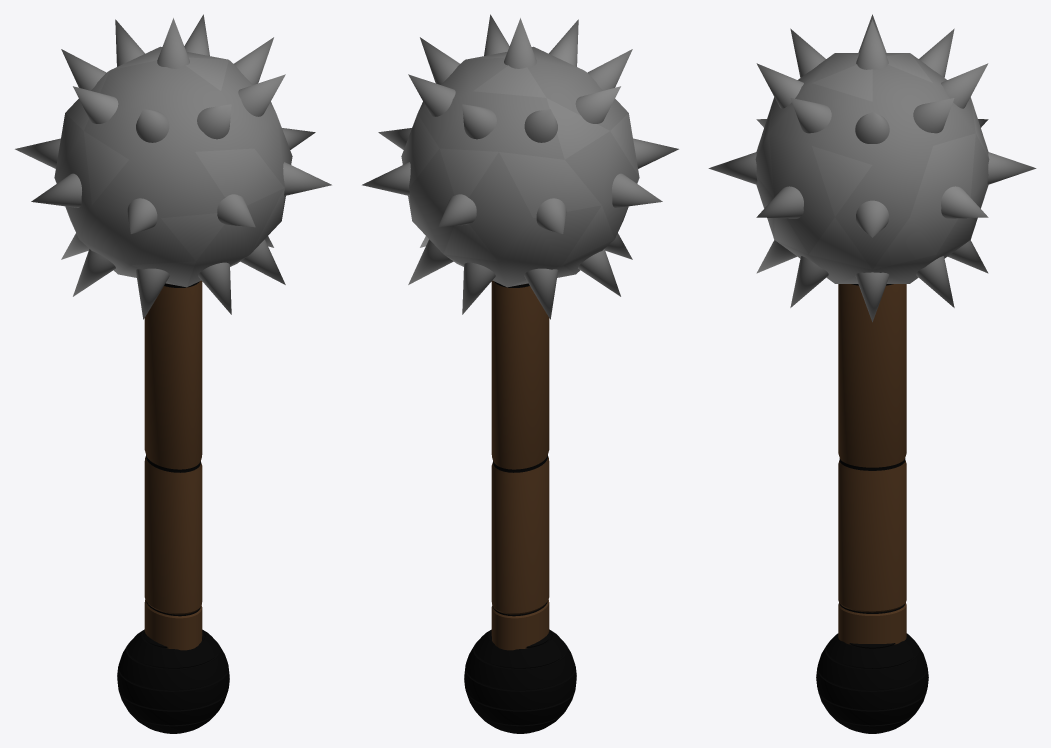
Rendered from Gurz.fbx.
The picture shows the model from 3 angles, left to right: view 1: azimuth 30°, elevation 25°; view 2: azimuth 150°, elevation 25°; view 3: azimuth 270°, elevation 25°; orthographic projection.
Parts seen in each view (by area): view 1: Gurz; view 2: Gurz; view 3: Gurz.
Part boxes in pixels (box(x1,y1,x2,y2)): Gurz: box(15, 14, 331, 733); Gurz: box(362, 14, 678, 733); Gurz: box(708, 14, 1036, 733).
Size of the model in its own units: 58.49 by 139 by 58.49.
